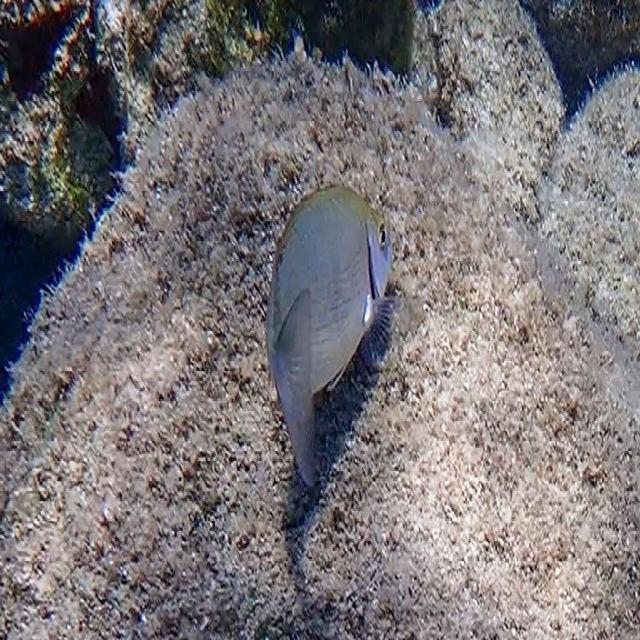Sokar Baligi: (262, 164, 411, 511)
